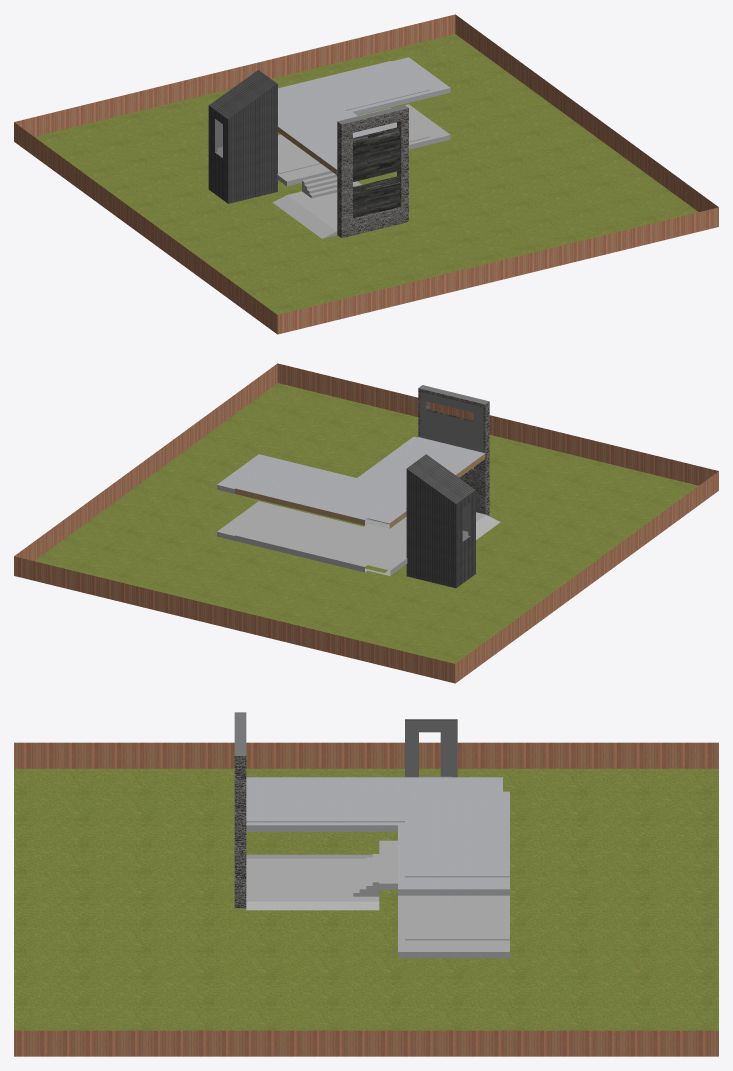
The model's file is EXCollison on.glb.
The picture shows the model from 3 angles, top to bottom: view 1: azimuth 30°, elevation 25°; view 2: azimuth 150°, elevation 25°; view 3: azimuth 270°, elevation 25°; orthographic projection. The views are drawn at different scales.
Visible parts, largest first — view 1: object 5, object 2, object 7, object 4, object 6, object 9, object 8, root, object 10; view 2: object 5, object 2, object 9, object 4, object 6, object 7, root; view 3: object 5, object 2, object 4, object 9, object 8, object 7, root, object 10.
Part boxes in pixels (x1=…): object 5: x1=14, y1=14, x2=718, y2=334; object 2: x1=278, y1=57, x2=450, y2=174; object 7: x1=336, y1=105, x2=408, y2=238; object 4: x1=179, y1=147, x2=492, y2=250; object 6: x1=208, y1=84, x2=277, y2=203; object 9: x1=277, y1=104, x2=450, y2=186; object 8: x1=272, y1=181, x2=361, y2=238; root: x1=209, y1=70, x2=277, y2=157; object 10: x1=302, y1=173, x2=354, y2=198; object 5: x1=14, y1=363, x2=718, y2=683; object 2: x1=217, y1=436, x2=485, y2=528; object 9: x1=217, y1=501, x2=407, y2=575; object 4: x1=225, y1=509, x2=538, y2=610; object 6: x1=406, y1=469, x2=475, y2=588; object 7: x1=418, y1=385, x2=489, y2=515; root: x1=407, y1=454, x2=475, y2=541; object 5: x1=14, y1=742, x2=718, y2=1056; object 2: x1=246, y1=777, x2=509, y2=895; object 4: x1=234, y1=832, x2=537, y2=963; object 9: x1=379, y1=840, x2=509, y2=958; object 8: x1=246, y1=854, x2=379, y2=910; object 7: x1=234, y1=712, x2=246, y2=908; root: x1=405, y1=719, x2=457, y2=777; object 10: x1=353, y1=854, x2=379, y2=896.
Bounding box in the file's own units: 29.21 × 7.2 × 30.21.
11 materials, 9 textured.
